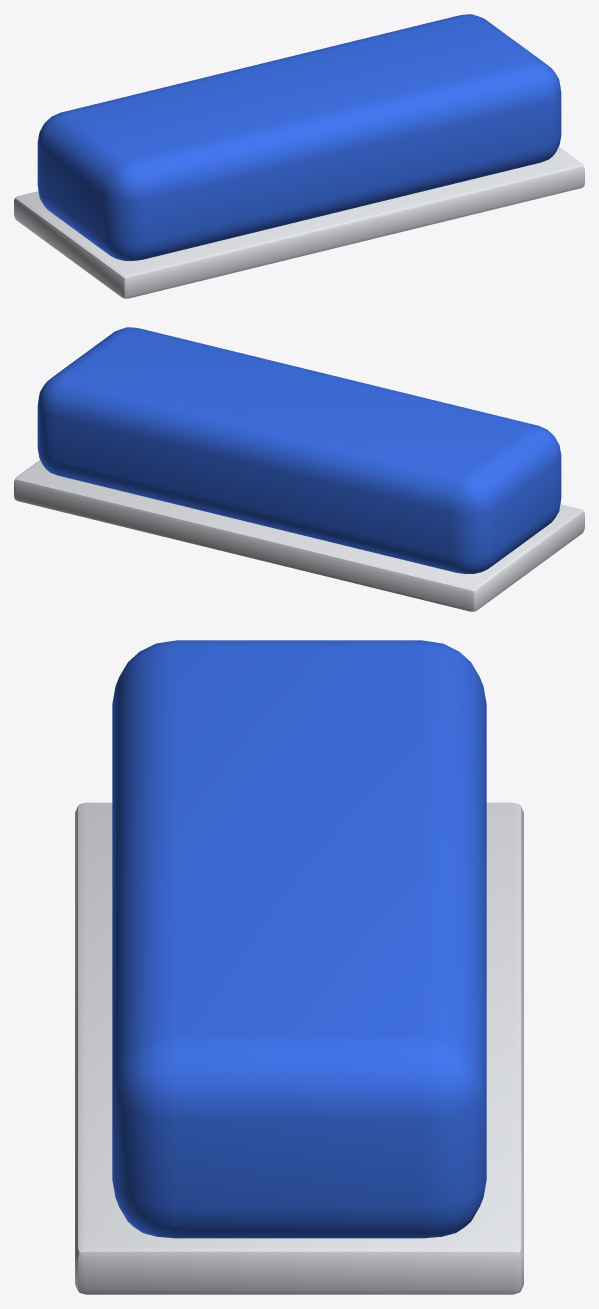
File: SD_WaterEdge_Blue.fbx
The picture shows the model from 3 angles, top to bottom: view 1: azimuth 30°, elevation 25°; view 2: azimuth 150°, elevation 25°; view 3: azimuth 270°, elevation 25°; orthographic projection. The views are drawn at different scales.
Visible parts, largest first — view 1: WaterEdge_Blue; view 2: WaterEdge_Blue; view 3: WaterEdge_Blue.
Part boxes in pixels (x1,y1,x2,y2): WaterEdge_Blue: [14, 14, 584, 298]; WaterEdge_Blue: [14, 327, 584, 611]; WaterEdge_Blue: [75, 640, 523, 1294].
Size of the model in its own units: 2 by 0.48 by 0.84.
